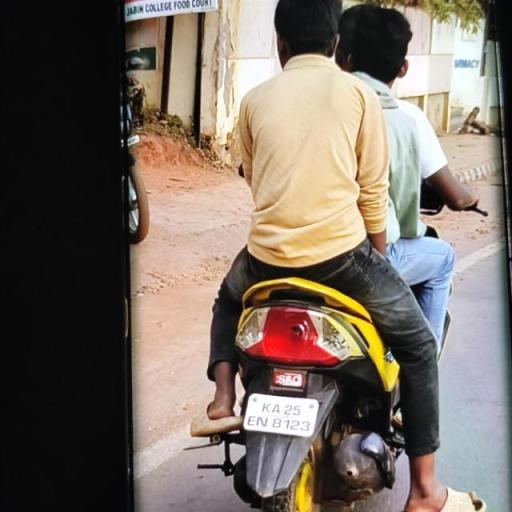tripple riding: (209, 0, 485, 275)
